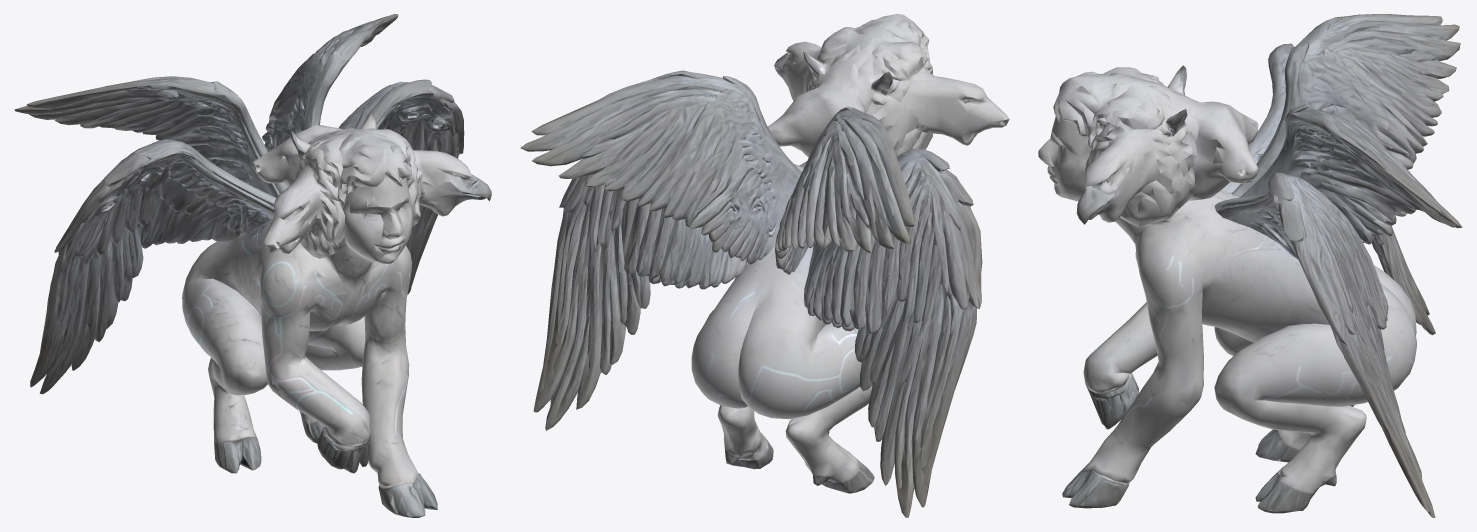
File: cherub.glb
3 views of the same model, side by side, from view 1: azimuth 30°, elevation 25°; view 2: azimuth 150°, elevation 25°; view 3: azimuth 270°, elevation 25° (orthographic). The views are drawn at different scales.
Visible parts, largest first — view 1: Mesh; view 2: Mesh; view 3: Mesh.
Boxes of the visible parts, x1,y1,x2,y2 form: Mesh: [14, 14, 491, 517]; Mesh: [520, 14, 1009, 517]; Mesh: [1038, 14, 1462, 517].
Size of the model in its own units: 1.91 by 1.7 by 1.6.
1 material, 1 textured.
